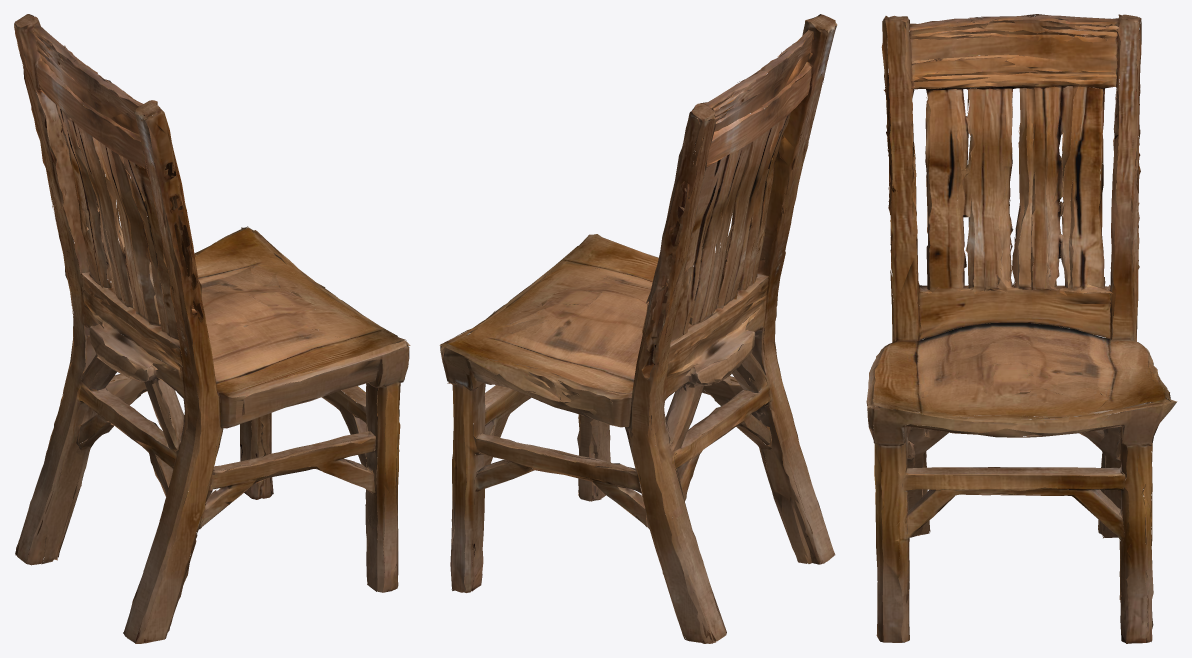
3 views of the same model, side by side, from view 1: azimuth 30°, elevation 25°; view 2: azimuth 150°, elevation 25°; view 3: azimuth 270°, elevation 25° (orthographic). The views are drawn at different scales.
Parts seen in each view (by area): view 1: world; view 2: world; view 3: world.
Boxes of the visible parts, bbox=[...] form: world: bbox=[14, 14, 410, 643]; world: bbox=[439, 14, 837, 643]; world: bbox=[866, 14, 1177, 643].
Bounding box in the file's own units: 0.5294 × 1 × 0.5481.
1 material, 1 textured.
